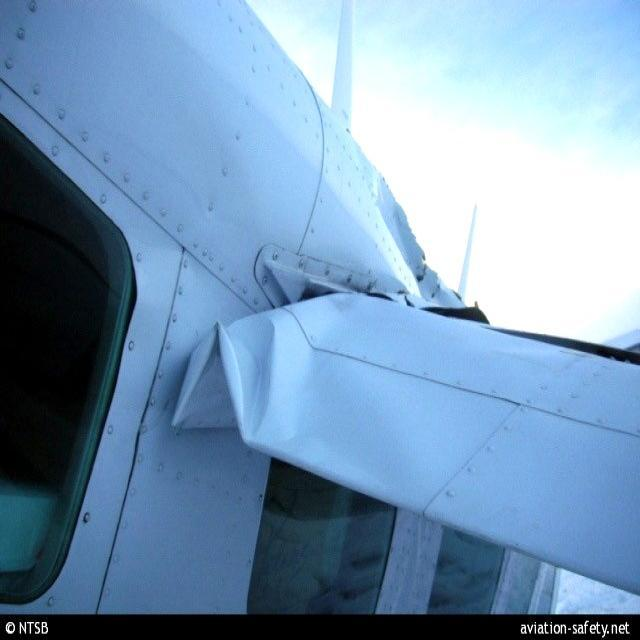dent: (161, 311, 281, 446), (377, 176, 459, 304)
